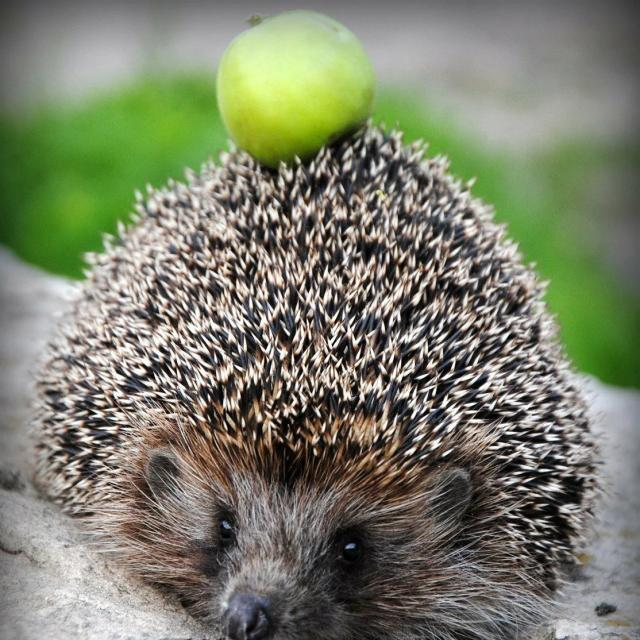Hedgehog: (39, 126, 604, 636)
